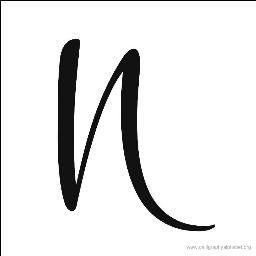n: (46, 28, 216, 238)
